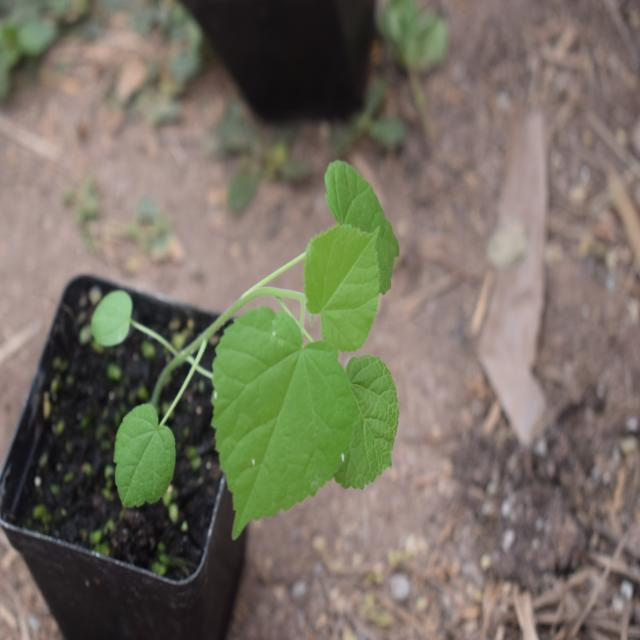abutilon theophrasti: (52, 152, 420, 509)
